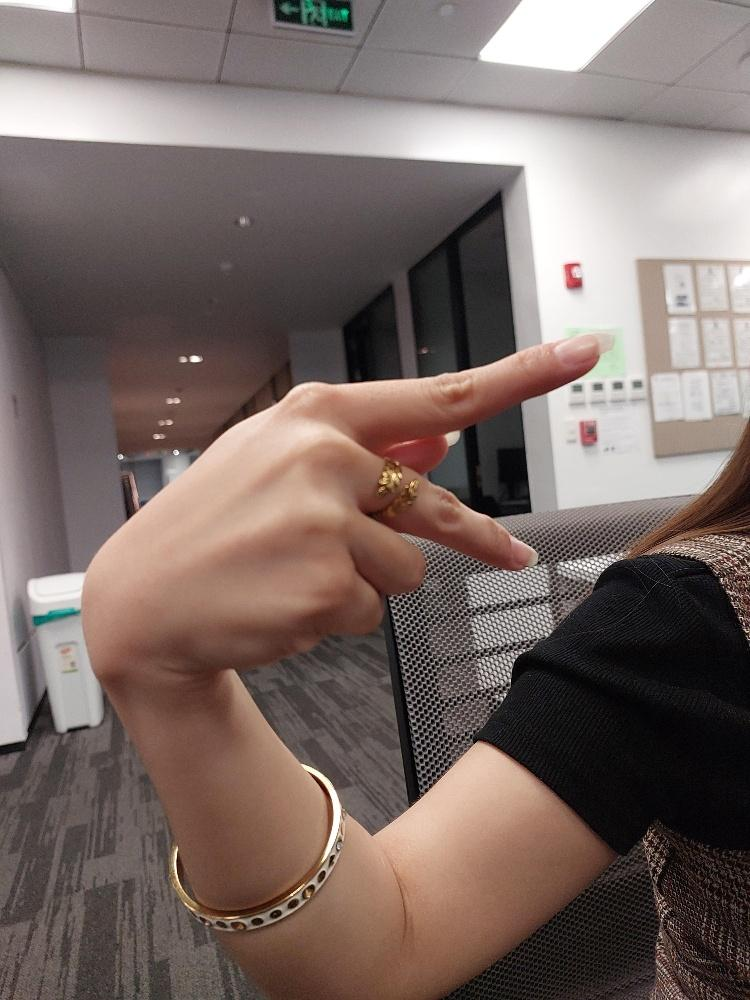k: (75, 328, 601, 679)
